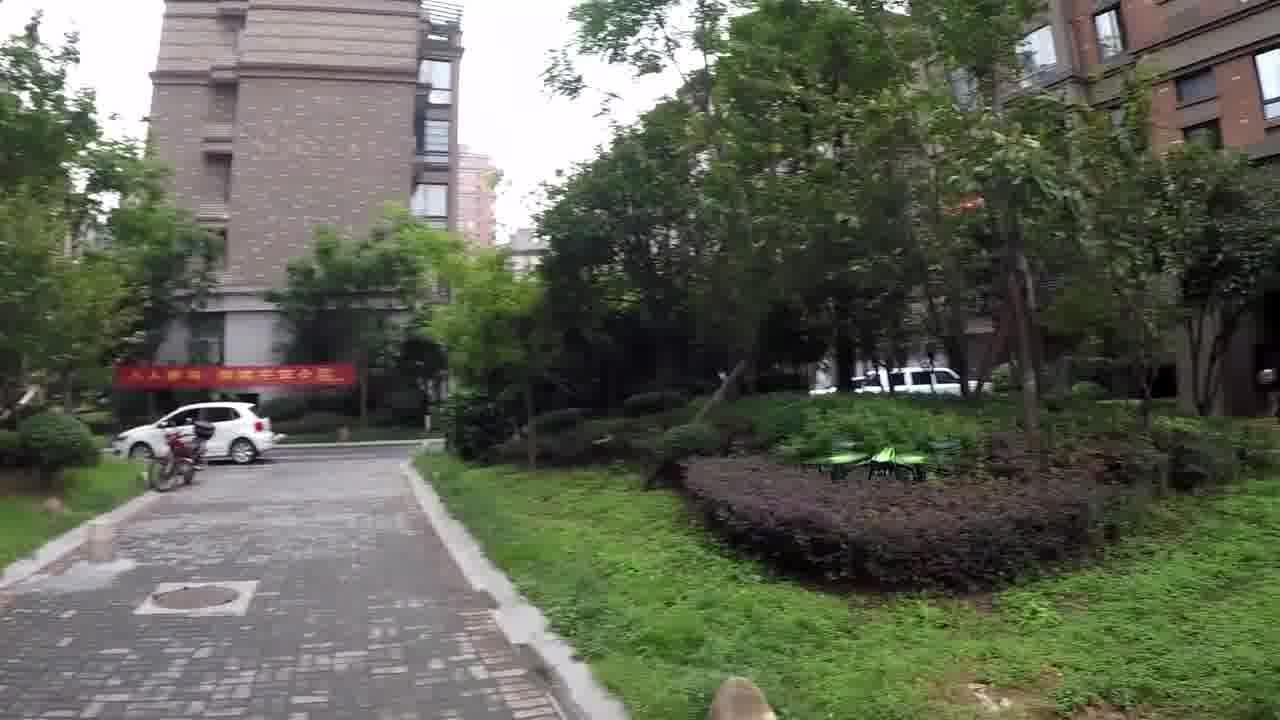drone: (808, 431, 959, 489)
